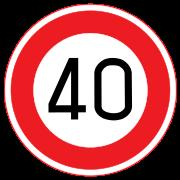Speed limit -40-: (34, 38, 146, 140)
